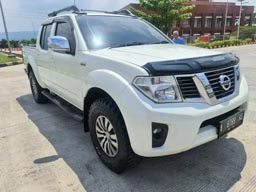plat: (219, 111, 245, 136)
